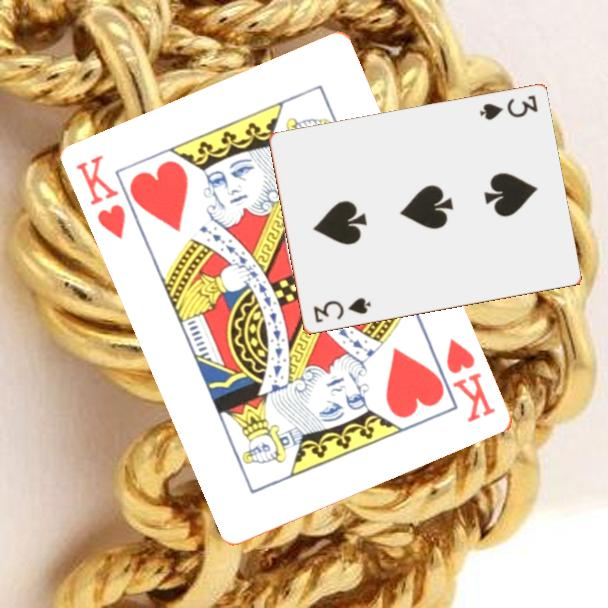h13: (73, 151, 130, 243), (443, 335, 499, 426)
s03: (309, 295, 374, 326), (476, 92, 541, 123)
